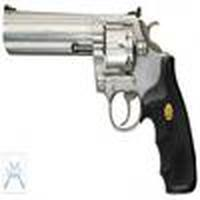gun: (2, 5, 194, 197)
